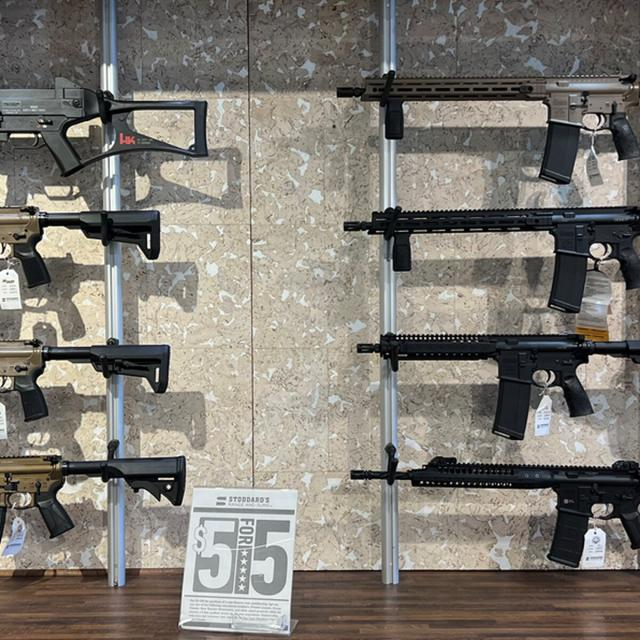Rifle: (337, 71, 640, 185), (344, 205, 640, 314), (350, 461, 640, 568), (356, 333, 640, 441)
